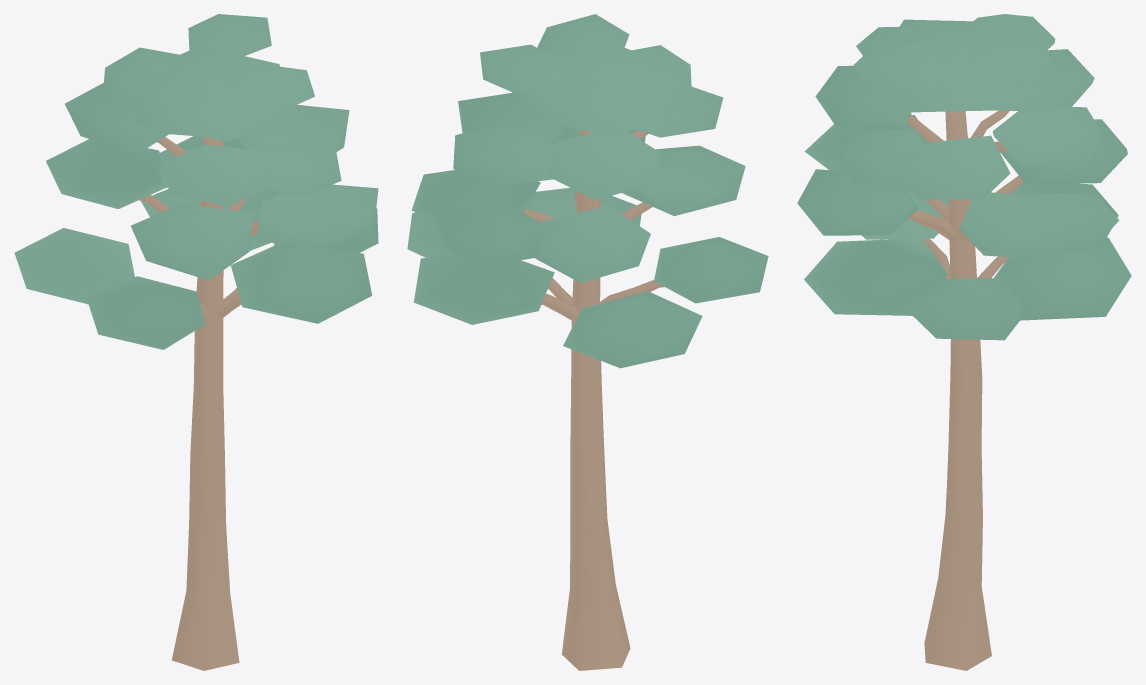
File: Blender_Pine_3_Far.glb
The picture shows the model from 3 angles, left to right: view 1: azimuth 30°, elevation 25°; view 2: azimuth 150°, elevation 25°; view 3: azimuth 270°, elevation 25°; orthographic projection. The views are drawn at different scales.
Parts seen in each view (by area): view 1: Blender_Pine_3_Far; view 2: Blender_Pine_3_Far; view 3: Blender_Pine_3_Far.
Boxes of the visible parts, bbox=[...] form: Blender_Pine_3_Far: bbox=[14, 14, 378, 670]; Blender_Pine_3_Far: bbox=[407, 14, 768, 670]; Blender_Pine_3_Far: bbox=[797, 14, 1131, 670].
Size of the model in its own units: 12.8 by 23.86 by 11.38.
